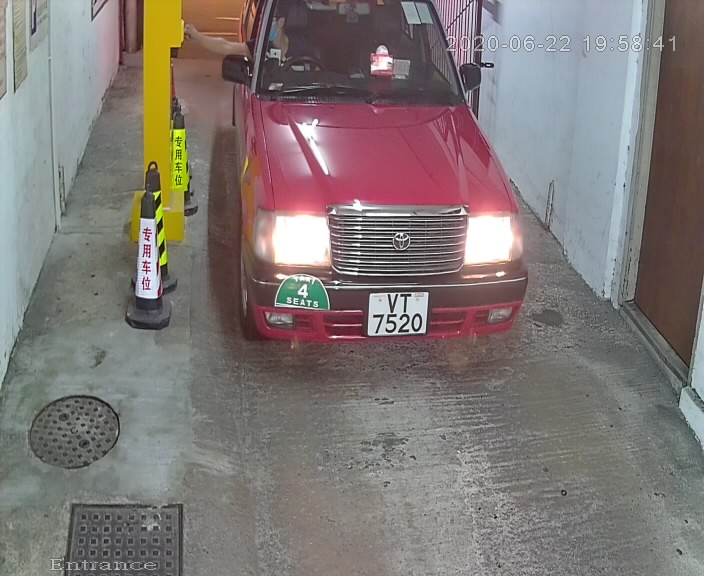taxi: (219, 2, 547, 356)
taxi_mark: (267, 263, 346, 322)
